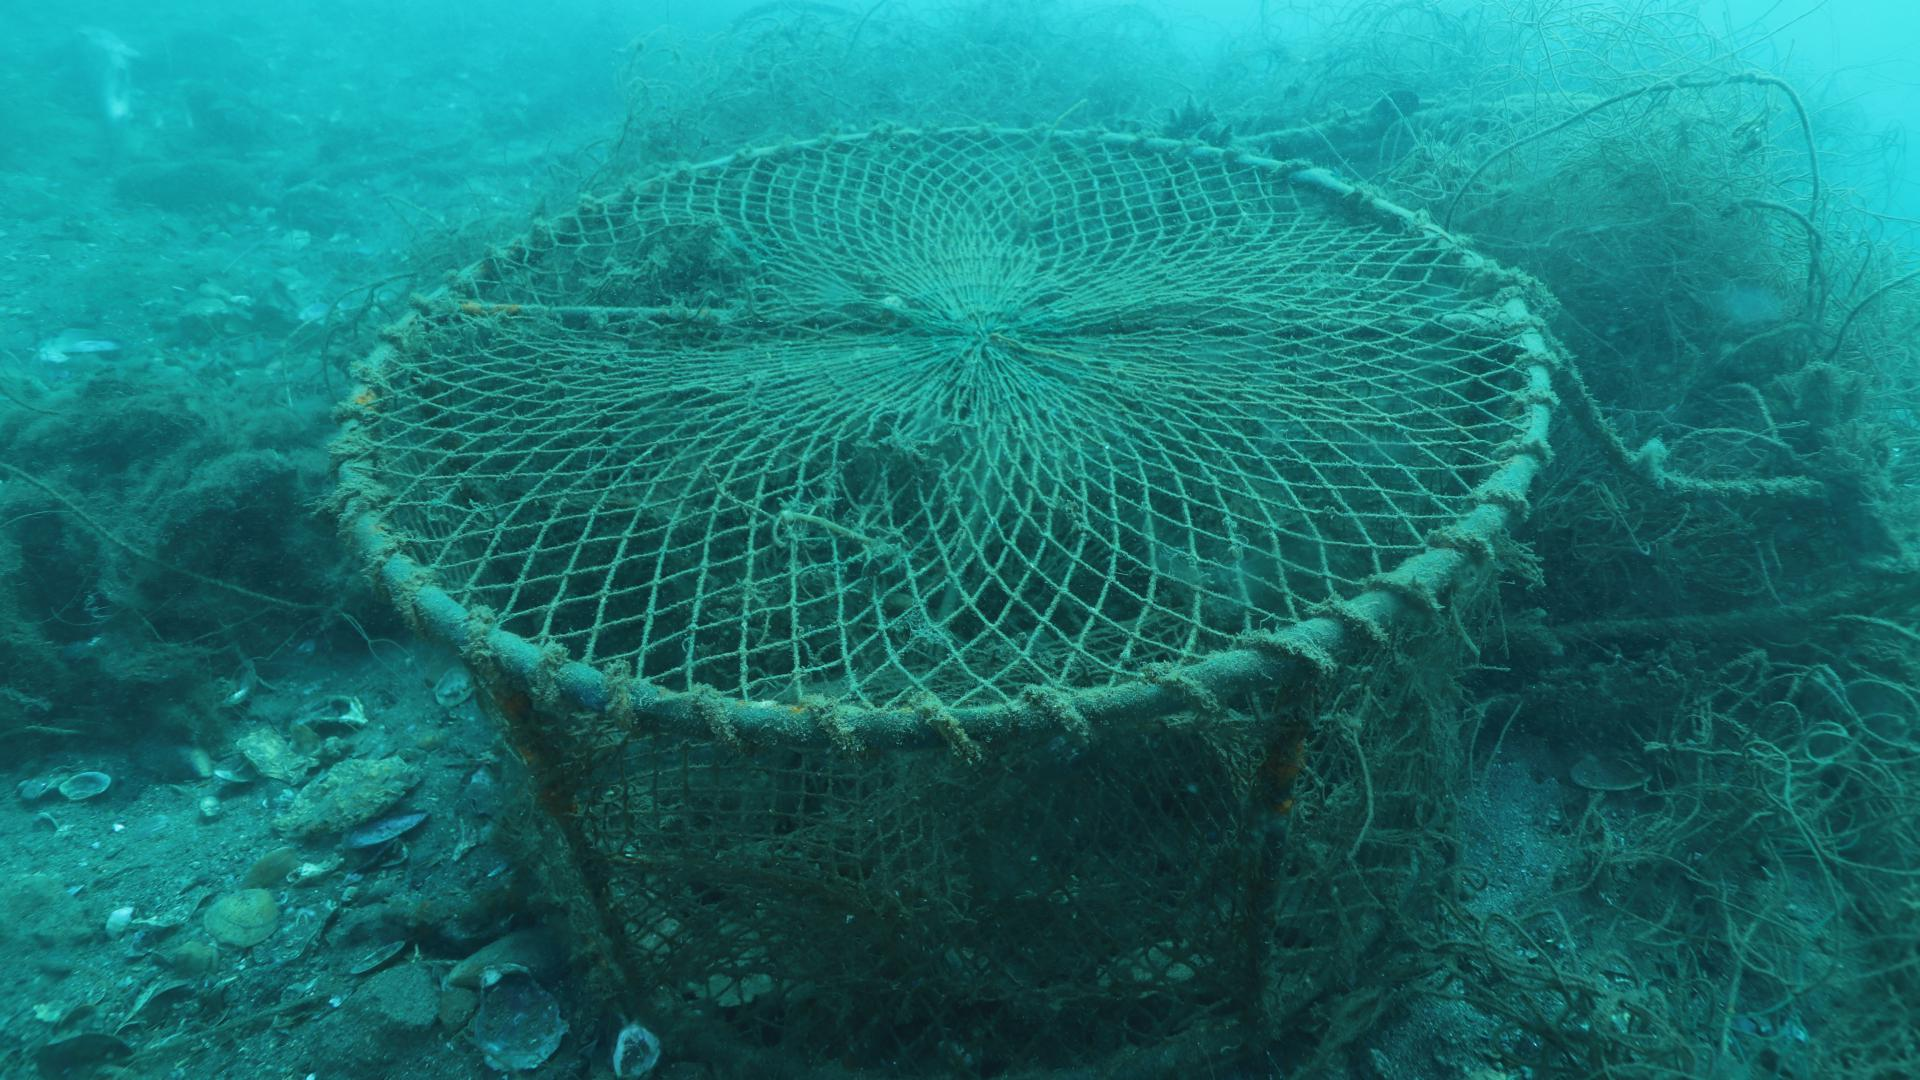circular fish trap: (338, 123, 1555, 1080)
